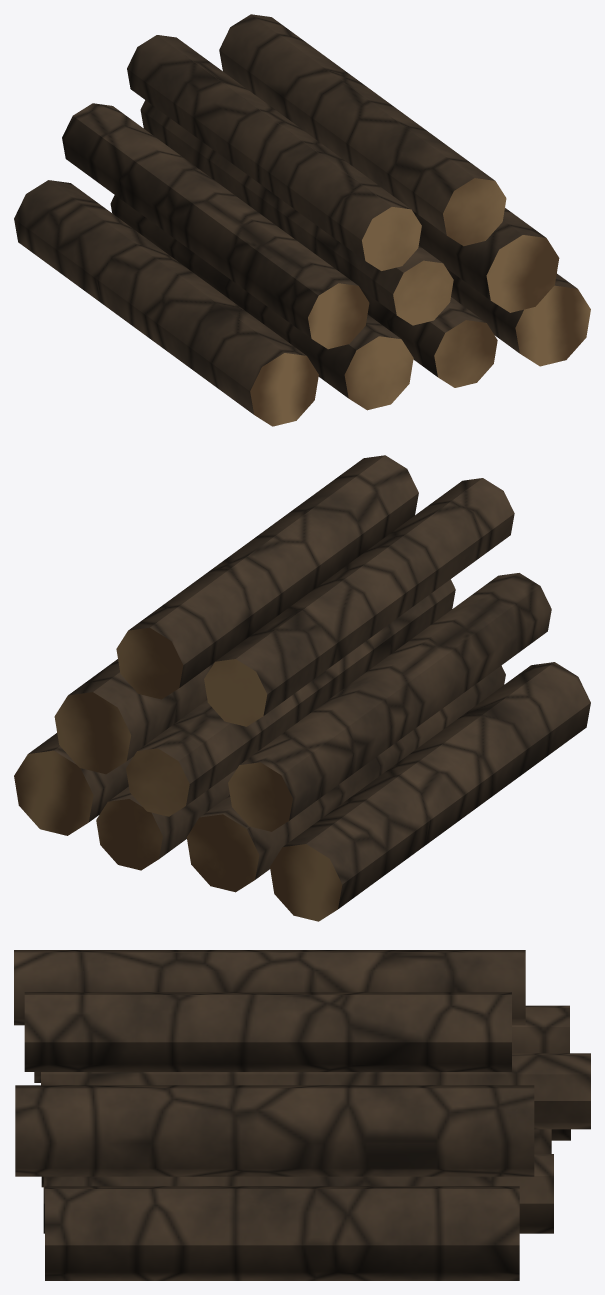
File: SM_WoodPile.glb
3 renders of one model, top to bottom at view 1: azimuth 30°, elevation 25°; view 2: azimuth 150°, elevation 25°; view 3: azimuth 270°, elevation 25°, orthographic. The views are drawn at different scales.
Visible parts, largest first — view 1: SM_WoodPile; view 2: SM_WoodPile; view 3: SM_WoodPile.
Boxes of the visible parts, x1,y1,x2,y2 form: SM_WoodPile: (14,14,590,426); SM_WoodPile: (14,455,590,921); SM_WoodPile: (14,950,590,1280).
Size of the model in its own units: 0.497 by 0.3028 by 0.6798.
Materials: 1 (1 with a texture image).
